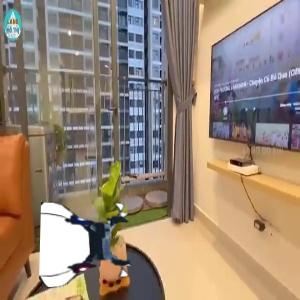drone: (41, 196, 137, 292)
